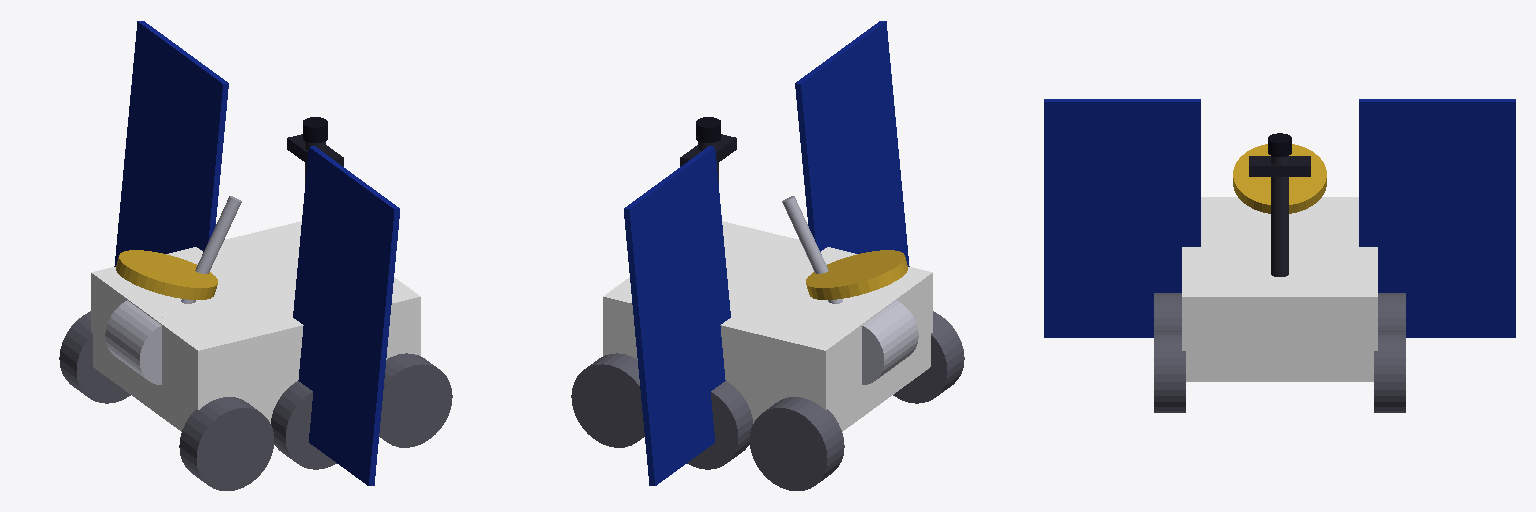
URDF robot description (nasa_realistic_rover):
<?xml version="1.0"?>
<robot name="nasa_realistic_rover" xmlns:xacro="http://www.ros.org/wiki/xacro">
  
  <!-- Main Rover Body (NASA Perseverance style) -->
  <link name="base_link">
    <visual>
      <geometry>
        <box size="3.0 2.5 1.2"/>
      </geometry>
      <material name="rover_white">
        <color rgba="0.95 0.95 0.95 1"/>
      </material>
    </visual>
    <collision>
      <geometry>
        <box size="3.0 2.5 1.2"/>
      </geometry>
    </collision>
    <inertial>
      <mass value="899"/>  <!-- NASA Perseverance mass -->
      <inertia ixx="150" ixy="0" ixz="0" iyy="200" iyz="0" izz="250"/>
    </inertial>
  </link>

  <!-- 6-Wheel Rocker-Bogie Suspension System -->
  
  <!-- Front Left Wheel -->
  <link name="front_left_wheel">
    <visual>
      <geometry>
        <cylinder radius="0.525" length="0.4"/>  <!-- Larger wheels like real NASA rover -->
      </geometry>
      <material name="wheel_titanium">
        <color rgba="0.4 0.4 0.45 1"/>
      </material>
    </visual>
    <collision>
      <geometry>
        <cylinder radius="0.525" length="0.4"/>
      </geometry>
    </collision>
    <inertial>
      <mass value="25"/>
      <inertia ixx="3.45" ixy="0" ixz="0" iyy="3.45" iyz="0" izz="6.9"/>
    </inertial>
  </link>

  <!-- Front Right Wheel -->
  <link name="front_right_wheel">
    <visual>
      <geometry>
        <cylinder radius="0.525" length="0.4"/>
      </geometry>
      <material name="wheel_titanium">
        <color rgba="0.4 0.4 0.45 1"/>
      </material>
    </visual>
    <collision>
      <geometry>
        <cylinder radius="0.525" length="0.4"/>
      </geometry>
    </collision>
    <inertial>
      <mass value="25"/>
      <inertia ixx="3.45" ixy="0" ixz="0" iyy="3.45" iyz="0" izz="6.9"/>
    </inertial>
  </link>

  <!-- Middle Left Wheel -->
  <link name="middle_left_wheel">
    <visual>
      <geometry>
        <cylinder radius="0.525" length="0.4"/>
      </geometry>
      <material name="wheel_titanium">
        <color rgba="0.4 0.4 0.45 1"/>
      </material>
    </visual>
    <collision>
      <geometry>
        <cylinder radius="0.525" length="0.4"/>
      </geometry>
    </collision>
    <inertial>
      <mass value="25"/>
      <inertia ixx="3.45" ixy="0" ixz="0" iyy="3.45" iyz="0" izz="6.9"/>
    </inertial>
  </link>

  <!-- Middle Right Wheel -->
  <link name="middle_right_wheel">
    <visual>
      <geometry>
        <cylinder radius="0.525" length="0.4"/>
      </geometry>
      <material name="wheel_titanium">
        <color rgba="0.4 0.4 0.45 1"/>
      </material>
    </visual>
    <collision>
      <geometry>
        <cylinder radius="0.525" length="0.4"/>
      </geometry>
    </collision>
    <inertial>
      <mass value="25"/>
      <inertia ixx="3.45" ixy="0" ixz="0" iyy="3.45" iyz="0" izz="6.9"/>
    </inertial>
  </link>

  <!-- Rear Left Wheel -->
  <link name="rear_left_wheel">
    <visual>
      <geometry>
        <cylinder radius="0.525" length="0.4"/>
      </geometry>
      <material name="wheel_titanium">
        <color rgba="0.4 0.4 0.45 1"/>
      </material>
    </visual>
    <collision>
      <geometry>
        <cylinder radius="0.525" length="0.4"/>
      </geometry>
    </collision>
    <inertial>
      <mass value="25"/>
      <inertia ixx="3.45" ixy="0" ixz="0" iyy="3.45" iyz="0" izz="6.9"/>
    </inertial>
  </link>

  <!-- Rear Right Wheel -->
  <link name="rear_right_wheel">
    <visual>
      <geometry>
        <cylinder radius="0.525" length="0.4"/>
      </geometry>
      <material name="wheel_titanium">
        <color rgba="0.4 0.4 0.45 1"/>
      </material>
    </visual>
    <collision>
      <geometry>
        <cylinder radius="0.525" length="0.4"/>
      </geometry>
    </collision>
    <inertial>
      <mass value="25"/>
      <inertia ixx="3.45" ixy="0" ixz="0" iyy="3.45" iyz="0" izz="6.9"/>
    </inertial>
  </link>

  <!-- Wheel Joints (6-wheel drive) -->
  <joint name="front_left_wheel_joint" type="continuous">
    <parent link="base_link"/>
    <child link="front_left_wheel"/>
    <origin xyz="1.2 1.4 -0.6" rpy="-1.5707 0 0"/>
    <axis xyz="0 0 1"/>
  </joint>

  <joint name="front_right_wheel_joint" type="continuous">
    <parent link="base_link"/>
    <child link="front_right_wheel"/>
    <origin xyz="1.2 -1.4 -0.6" rpy="-1.5707 0 0"/>
    <axis xyz="0 0 1"/>
  </joint>

  <joint name="middle_left_wheel_joint" type="continuous">
    <parent link="base_link"/>
    <child link="middle_left_wheel"/>
    <origin xyz="0 1.4 -0.6" rpy="-1.5707 0 0"/>
    <axis xyz="0 0 1"/>
  </joint>

  <joint name="middle_right_wheel_joint" type="continuous">
    <parent link="base_link"/>
    <child link="middle_right_wheel"/>
    <origin xyz="0 -1.4 -0.6" rpy="-1.5707 0 0"/>
    <axis xyz="0 0 1"/>
  </joint>

  <joint name="rear_left_wheel_joint" type="continuous">
    <parent link="base_link"/>
    <child link="rear_left_wheel"/>
    <origin xyz="-1.2 1.4 -0.6" rpy="-1.5707 0 0"/>
    <axis xyz="0 0 1"/>
  </joint>

  <joint name="rear_right_wheel_joint" type="continuous">
    <parent link="base_link"/>
    <child link="rear_right_wheel"/>
    <origin xyz="-1.2 -1.4 -0.6" rpy="-1.5707 0 0"/>
    <axis xyz="0 0 1"/>
  </joint>

  <!-- Robotic Arm (NASA style) -->
  <link name="robotic_arm">
    <visual>
      <geometry>
        <cylinder radius="0.08" length="2.2"/>
      </geometry>
      <material name="arm_silver">
        <color rgba="0.7 0.7 0.75 1"/>
      </material>
    </visual>
    <collision>
      <geometry>
        <cylinder radius="0.08" length="2.2"/>
      </geometry>
    </collision>
    <inertial>
      <mass value="30"/>
      <inertia ixx="12.1" ixy="0" ixz="0" iyy="12.1" iyz="0" izz="0.096"/>
    </inertial>
  </link>

  <joint name="arm_joint" type="revolute">
    <parent link="base_link"/>
    <child link="robotic_arm"/>
    <origin xyz="-0.8 0 0.8" rpy="0 0.5 0"/>
    <axis xyz="0 1 0"/>
    <limit lower="-1.57" upper="1.57" effort="100" velocity="0.5"/>
  </joint>

  <!-- Scientific Instrument Mast (like Perseverance) -->
  <link name="science_mast">
    <visual>
      <geometry>
        <cylinder radius="0.12" length="1.8"/>
      </geometry>
      <material name="mast_black">
        <color rgba="0.2 0.2 0.25 1"/>
      </material>
    </visual>
    <collision>
      <geometry>
        <cylinder radius="0.12" length="1.8"/>
      </geometry>
    </collision>
    <inertial>
      <mass value="15"/>
      <inertia ixx="4.1" ixy="0" ixz="0" iyy="4.1" iyz="0" izz="0.108"/>
    </inertial>
  </link>

  <joint name="mast_joint" type="fixed">
    <parent link="base_link"/>
    <child link="science_mast"/>
    <origin xyz="0.8 0 1.5" rpy="0 0 0"/>
  </joint>

  <!-- High-Gain Antenna (Communication with Earth) -->
  <link name="high_gain_antenna">
    <visual>
      <geometry>
        <cylinder radius="0.6" length="0.15"/>
      </geometry>
      <material name="antenna_gold">
        <color rgba="0.8 0.65 0.2 1"/>
      </material>
    </visual>
    <collision>
      <geometry>
        <cylinder radius="0.6" length="0.15"/>
      </geometry>
    </collision>
    <inertial>
      <mass value="8"/>
      <inertia ixx="1.44" ixy="0" ixz="0" iyy="1.44" iyz="0" izz="1.44"/>
    </inertial>
  </link>

  <joint name="antenna_joint" type="revolute">
    <parent link="base_link"/>
    <child link="high_gain_antenna"/>
    <origin xyz="-1.2 0 1.0" rpy="0 0.3 0"/>
    <axis xyz="0 0 1"/>
    <limit lower="-3.14" upper="3.14" effort="50" velocity="1.0"/>
  </joint>

  <!-- LiDAR Scanner (on mast) -->
  <link name="lidar_link">
    <visual>
      <geometry>
        <cylinder radius="0.15" length="0.2"/>
      </geometry>
      <material name="lidar_black">
        <color rgba="0.1 0.1 0.15 1"/>
      </material>
    </visual>
    <collision>
      <geometry>
        <cylinder radius="0.15" length="0.2"/>
      </geometry>
    </collision>
    <inertial>
      <mass value="5"/>
      <inertia ixx="0.053" ixy="0" ixz="0" iyy="0.053" iyz="0" izz="0.056"/>
    </inertial>
  </link>

  <joint name="lidar_joint" type="fixed">
    <parent link="science_mast"/>
    <child link="lidar_link"/>
    <origin xyz="0 0 0.9" rpy="0 0 0"/>
  </joint>

  <!-- Stereo Navigation Cameras -->
  <link name="navcam_link">
    <visual>
      <geometry>
        <box size="0.3 0.8 0.15"/>
      </geometry>
      <material name="camera_black">
        <color rgba="0.15 0.15 0.2 1"/>
      </material>
    </visual>
    <collision>
      <geometry>
        <box size="0.3 0.8 0.15"/>
      </geometry>
    </collision>
    <inertial>
      <mass value="3"/>
      <inertia ixx="0.16" ixy="0" ixz="0" iyy="0.023" iyz="0" izz="0.17"/>
    </inertial>
  </link>

  <joint name="navcam_joint" type="fixed">
    <parent link="science_mast"/>
    <child link="navcam_link"/>
    <origin xyz="0 0 0.6" rpy="0 0 0"/>
  </joint>

  <!-- Solar Panels (deployable) -->
  <link name="solar_panel_left">
    <visual>
      <geometry>
        <box size="0.08 2.0 3.5"/>
      </geometry>
      <material name="solar_blue">
        <color rgba="0.1 0.2 0.6 1"/>
      </material>
    </visual>
    <collision>
      <geometry>
        <box size="0.08 2.0 3.5"/>
      </geometry>
    </collision>
    <inertial>
      <mass value="18"/>
      <inertia ixx="18.4" ixy="0" ixz="0" iyy="18.4" iyz="0" izz="6.0"/>
    </inertial>
  </link>

  <joint name="solar_left_joint" type="revolute">
    <parent link="base_link"/>
    <child link="solar_panel_left"/>
    <origin xyz="0 2.0 1.0" rpy="0 0.1 0"/>
    <axis xyz="1 0 0"/>
    <limit lower="-0.5" upper="0.5" effort="20" velocity="0.2"/>
  </joint>

  <link name="solar_panel_right">
    <visual>
      <geometry>
        <box size="0.08 2.0 3.5"/>
      </geometry>
      <material name="solar_blue">
        <color rgba="0.1 0.2 0.6 1"/>
      </material>
    </visual>
    <collision>
      <geometry>
        <box size="0.08 2.0 3.5"/>
      </geometry>
    </collision>
    <inertial>
      <mass value="18"/>
      <inertia ixx="18.4" ixy="0" ixz="0" iyy="18.4" iyz="0" izz="6.0"/>
    </inertial>
  </link>

  <joint name="solar_right_joint" type="revolute">
    <parent link="base_link"/>
    <child link="solar_panel_right"/>
    <origin xyz="0 -2.0 1.0" rpy="0 0.1 0"/>
    <axis xyz="1 0 0"/>
    <limit lower="-0.5" upper="0.5" effort="20" velocity="0.2"/>
  </joint>

  <!-- RTG Power Source (NASA style nuclear battery) -->
  <link name="rtg_power">
    <visual>
      <geometry>
        <cylinder radius="0.4" length="0.8"/>
      </geometry>
      <material name="rtg_silver">
        <color rgba="0.75 0.75 0.8 1"/>
      </material>
    </visual>
    <collision>
      <geometry>
        <cylinder radius="0.4" length="0.8"/>
      </geometry>
    </collision>
    <inertial>
      <mass value="45"/>
      <inertia ixx="2.4" ixy="0" ixz="0" iyy="2.4" iyz="0" izz="3.6"/>
    </inertial>
  </link>

  <joint name="rtg_joint" type="fixed">
    <parent link="base_link"/>
    <child link="rtg_power"/>
    <origin xyz="-1.4 0 0.2" rpy="1.5707 0 0"/>
  </joint>

  <!-- Gazebo Plugins for 6-wheel drive -->
  <gazebo>
    <plugin name="diff_drive_controller" filename="libgazebo_ros_diff_drive.so">
      <ros>
        <namespace>/nasa_rover</namespace>
      </ros>
      <left_joint>front_left_wheel_joint</left_joint>
      <right_joint>front_right_wheel_joint</right_joint>
      <left_joint>middle_left_wheel_joint</left_joint>
      <right_joint>middle_right_wheel_joint</right_joint>
      <left_joint>rear_left_wheel_joint</left_joint>
      <right_joint>rear_right_wheel_joint</right_joint>
      <wheel_separation>2.8</wheel_separation>
      <wheel_diameter>1.05</wheel_diameter>
      <max_wheel_torque>200</max_wheel_torque>
      <max_wheel_acceleration>3.0</max_wheel_acceleration>
      <publish_odom>true</publish_odom>
      <publish_odom_tf>true</publish_odom_tf>
      <publish_wheel_tf>true</publish_wheel_tf>
      <odometry_frame>odom</odometry_frame>
      <robot_base_frame>base_link</robot_base_frame>
    </plugin>
  </gazebo>

  <!-- LiDAR Plugin -->
  <gazebo reference="lidar_link">
    <plugin name="lidar_controller" filename="libgazebo_ros_ray_sensor.so">
      <ros>
        <namespace>/nasa_rover</namespace>
        <remapping>~/out:=scan</remapping>
      </ros>
      <output_type>sensor_msgs/LaserScan</output_type>
      <frame_name>lidar_link</frame_name>
      <update_rate>10</update_rate>
      <ray>
        <scan>
          <horizontal>
            <samples>720</samples>  <!-- High resolution like real NASA LiDAR -->
            <resolution>1</resolution>
            <min_angle>-3.14159</min_angle>
            <max_angle>3.14159</max_angle>
          </horizontal>
        </scan>
        <range>
          <min>0.3</min>
          <max>100.0</max>  <!-- Long range like real rover -->
          <resolution>0.01</resolution>
        </range>
      </ray>
    </plugin>
  </gazebo>

  <!-- Navigation Camera Plugin -->
  <gazebo reference="navcam_link">
    <plugin name="camera_controller" filename="libgazebo_ros_camera.so">
      <ros>
        <namespace>/nasa_rover</namespace>
        <remapping>image_raw:=camera/image_raw</remapping>
        <remapping>camera_info:=camera/camera_info</remapping>
      </ros>
      <camera_name>navigation_camera</camera_name>
      <frame_name>navcam_link</frame_name>
      <update_rate>10</update_rate>
      <image>
        <width>1600</width>  <!-- High resolution like NASA -->
        <height>1200</height>
        <format>R8G8B8</format>
      </image>
      <clip>
        <near>0.1</near>
        <far>1000</far>
      </clip>
    </plugin>
  </gazebo>

</robot>

--- Render facts (derived) ---
The picture shows the robot from 3 angles, left to right: view 1: azimuth 30°, elevation 25°; view 2: azimuth 150°, elevation 25°; view 3: azimuth 270°, elevation 25°; orthographic projection.
Model nasa_realistic_rover with 15 links and 14 joints (4 revolute, 6 continuous, 4 fixed), rooted at base_link, posed all joints at 0.
Visible links, largest first — view 1: base_link, solar_panel_right, solar_panel_left, rear_right_wheel, front_right_wheel, high_gain_antenna, rtg_power, middle_right_wheel, rear_left_wheel, robotic_arm, lidar_link, navcam_link; view 2: base_link, solar_panel_left, solar_panel_right, rear_left_wheel, front_left_wheel, high_gain_antenna, rtg_power, middle_left_wheel, rear_right_wheel, robotic_arm, lidar_link, navcam_link; view 3: solar_panel_left, solar_panel_right, base_link, high_gain_antenna, front_left_wheel, front_right_wheel, science_mast, navcam_link, middle_left_wheel, middle_right_wheel, lidar_link.
Link boxes in pixels (<box>): base_link: <box>91,221,420,431</box>; solar_panel_right: <box>293,146,399,485</box>; solar_panel_left: <box>114,21,228,266</box>; rear_right_wheel: <box>179,397,273,490</box>; front_right_wheel: <box>379,353,452,447</box>; high_gain_antenna: <box>116,250,217,299</box>; rtg_power: <box>105,300,162,384</box>; middle_right_wheel: <box>271,381,336,469</box>; rear_left_wheel: <box>59,311,130,403</box>; robotic_arm: <box>181,196,241,303</box>; lidar_link: <box>303,117,327,142</box>; navcam_link: <box>287,134,343,166</box>; base_link: <box>603,221,932,431</box>; solar_panel_left: <box>624,146,730,485</box>; solar_panel_right: <box>795,21,909,266</box>; rear_left_wheel: <box>750,397,844,490</box>; front_left_wheel: <box>571,353,644,447</box>; high_gain_antenna: <box>806,250,907,299</box>; rtg_power: <box>862,300,918,384</box>; middle_left_wheel: <box>687,381,752,469</box>; rear_right_wheel: <box>893,311,964,403</box>; robotic_arm: <box>782,196,842,303</box>; lidar_link: <box>696,117,720,142</box>; navcam_link: <box>680,134,736,166</box>; solar_panel_left: <box>1359,99,1515,337</box>; solar_panel_right: <box>1044,99,1200,337</box>; base_link: <box>1182,197,1377,381</box>; high_gain_antenna: <box>1233,144,1326,213</box>; front_left_wheel: <box>1374,331,1405,412</box>; front_right_wheel: <box>1154,331,1185,412</box>; science_mast: <box>1271,156,1288,276</box>; navcam_link: <box>1249,156,1310,176</box>; middle_left_wheel: <box>1378,293,1405,330</box>; middle_right_wheel: <box>1154,293,1181,330</box>; lidar_link: <box>1268,133,1291,156</box>.
Size in the robot's own frame: 3.52 by 6 by 3.87 metres.
Geometry: primitives only (box / cylinder / sphere), no mesh files.